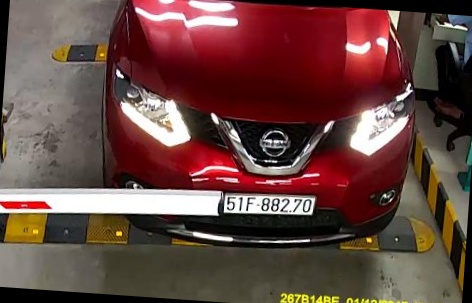plate: (222, 190, 321, 221)
